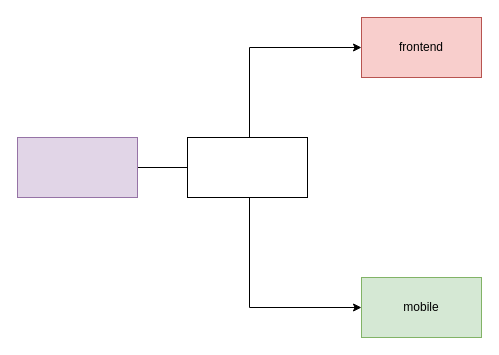
Some shapes in this 499 by 355 pixel diagram are drawn without their labels. Here are the shapes that lost their labels. From the top down, the centre of each, then its label:
At [77,167]: "API".
At [247,167]: "CONTRATO".
